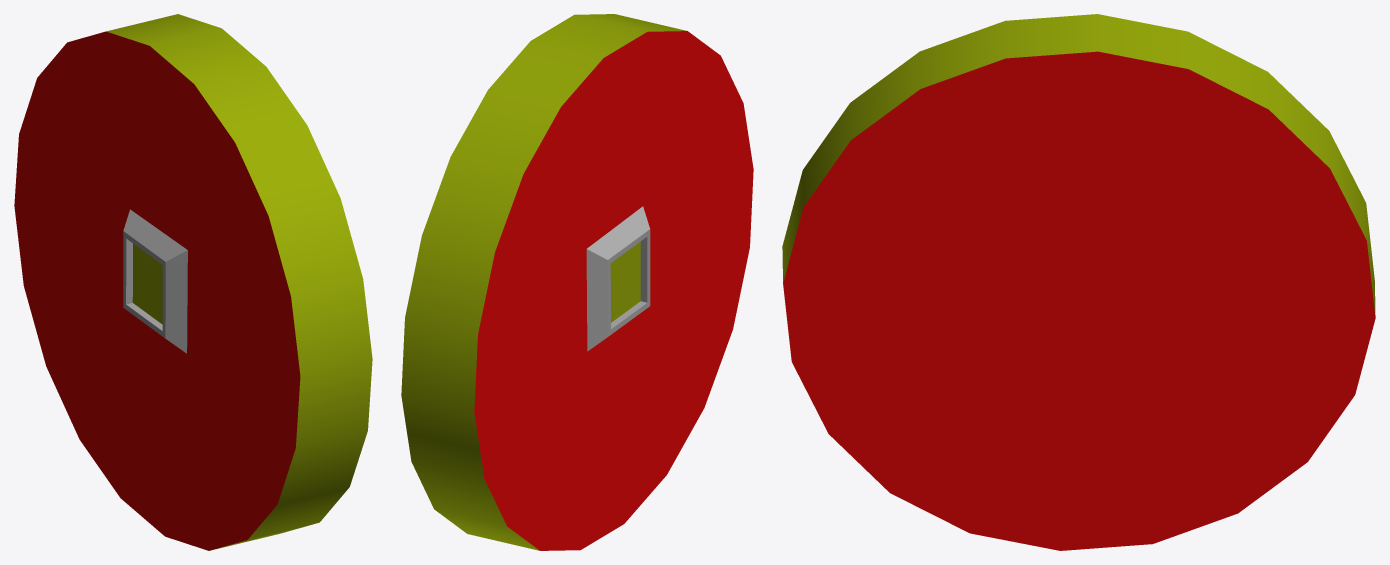
The model's file is DOOR.fbx.
3 views of the same model, side by side, from view 1: azimuth 30°, elevation 25°; view 2: azimuth 150°, elevation 25°; view 3: azimuth 270°, elevation 25° (orthographic). The views are drawn at different scales.
Visible parts, largest first — view 1: pCube1250; view 2: pCube1250; view 3: pCube1250.
Boxes of the visible parts, bbox=[...] form: pCube1250: bbox=[14, 14, 372, 550]; pCube1250: bbox=[401, 14, 753, 550]; pCube1250: bbox=[782, 14, 1375, 550].
Size of the model in its own units: 62.58 by 321 by 344.
